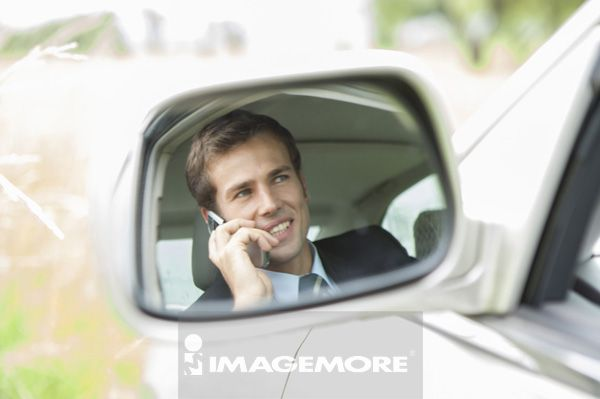talk: (205, 158, 308, 304)
